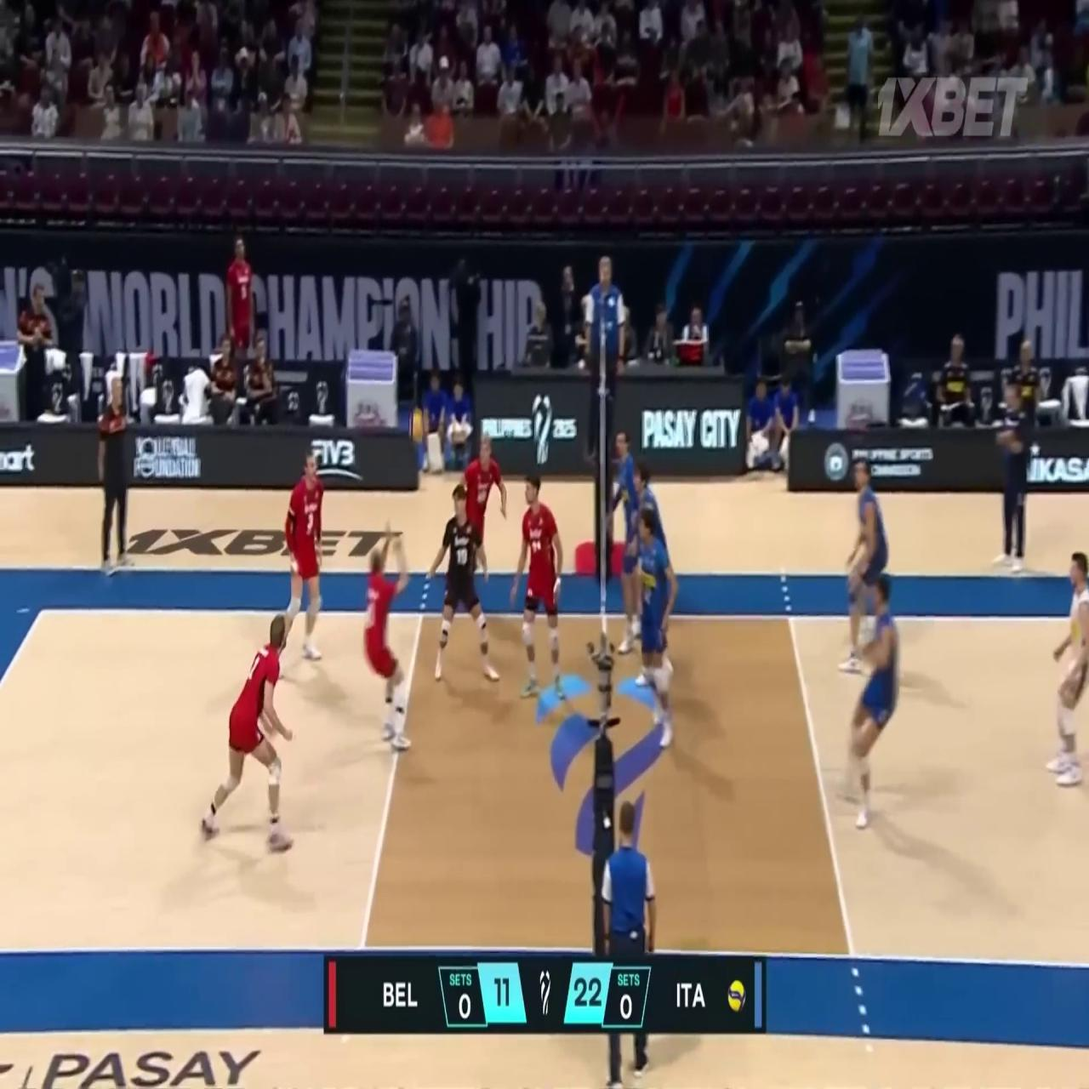ball: (407, 407, 428, 442)
